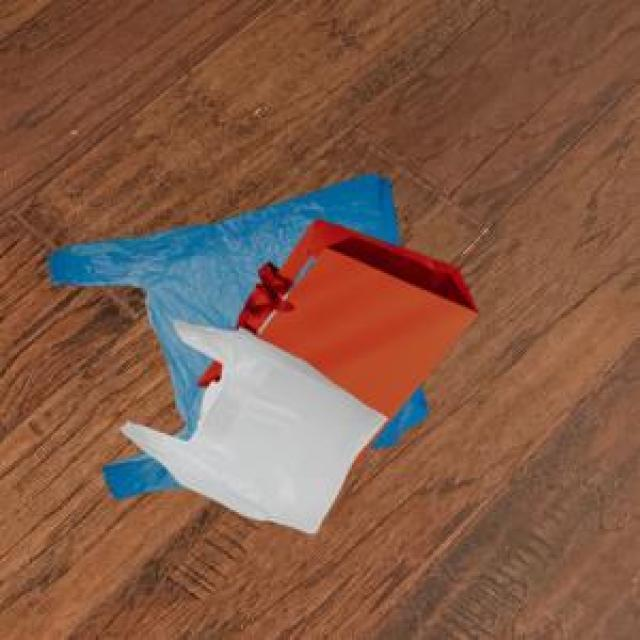paper: (194, 216, 474, 463)
